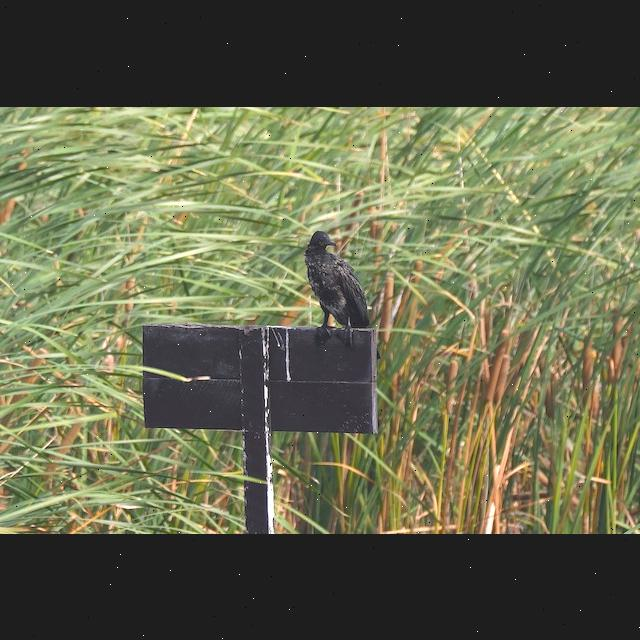cormorant: (300, 218, 372, 342)
